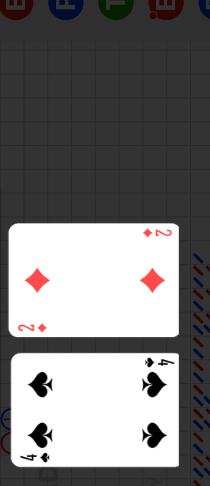2D: (141, 227, 174, 239)
4S: (19, 451, 53, 464)
